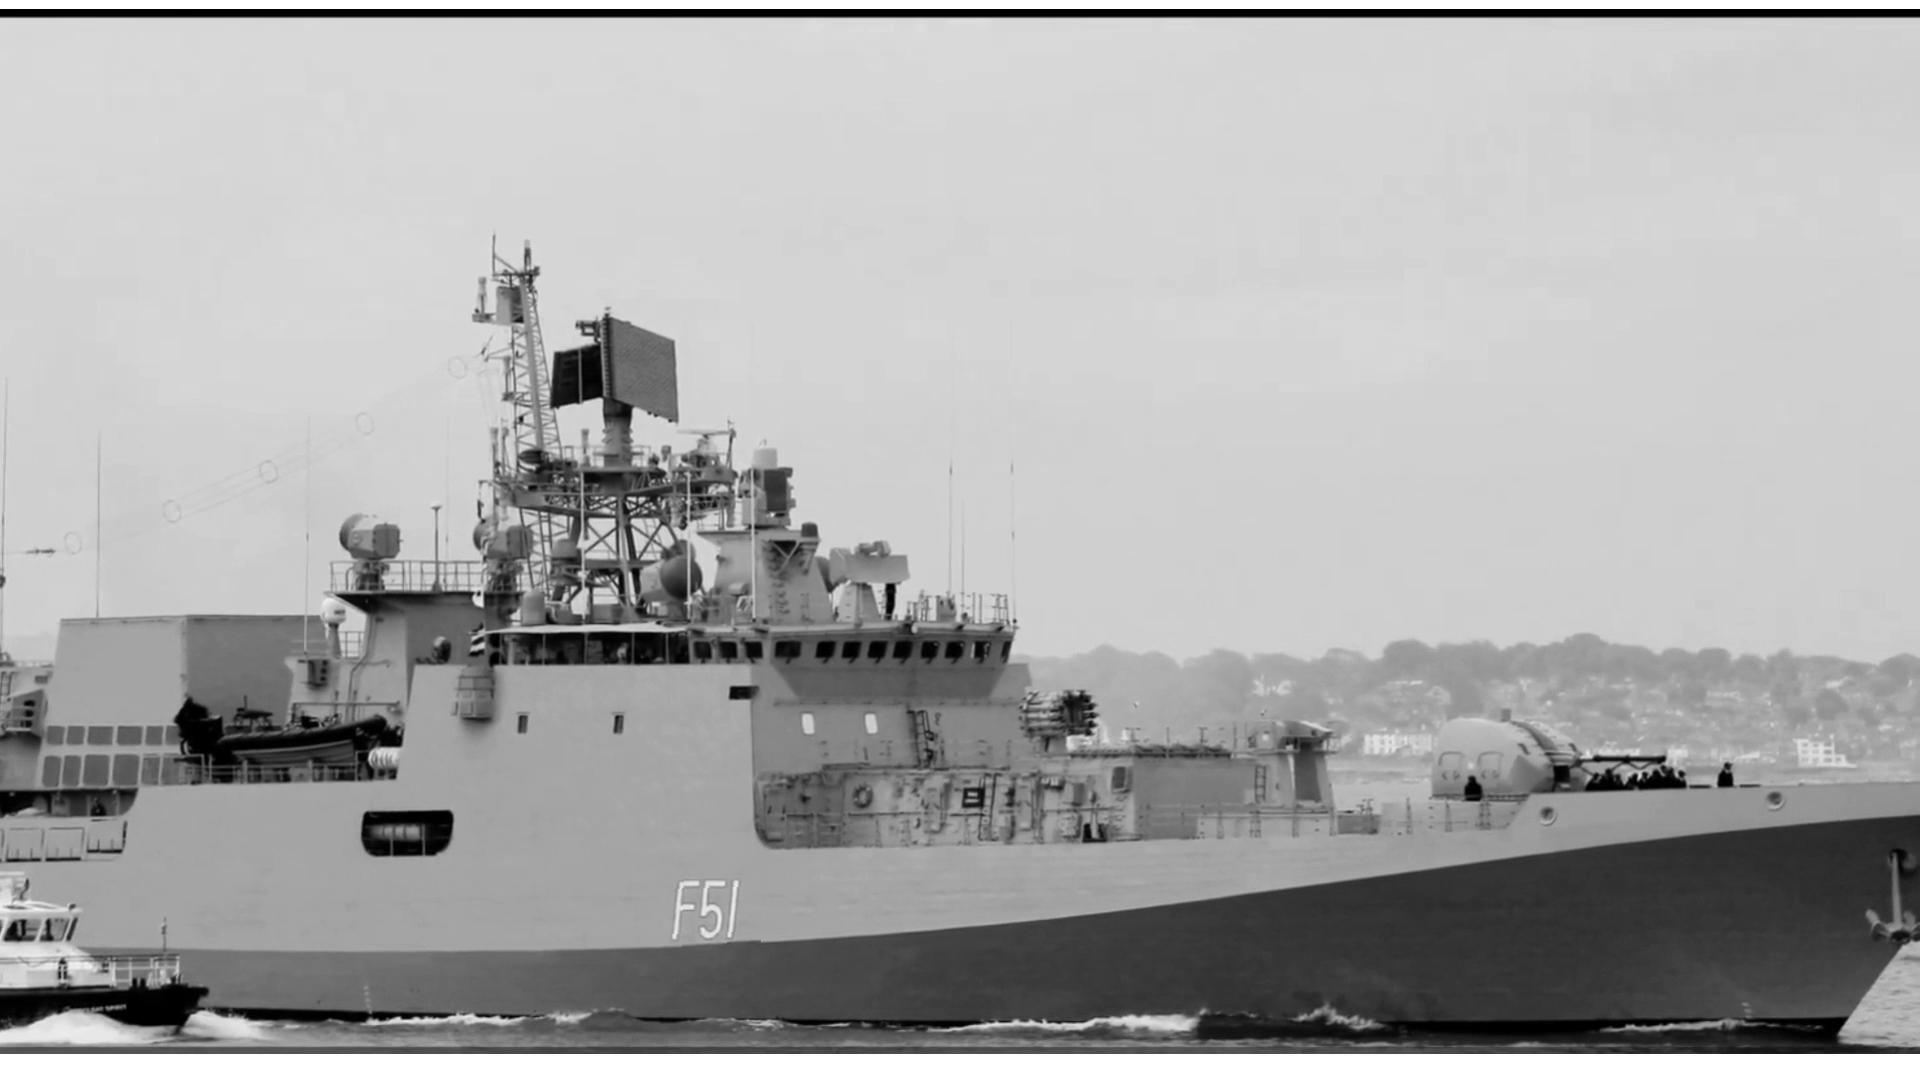OCR: (661, 866, 763, 956)
